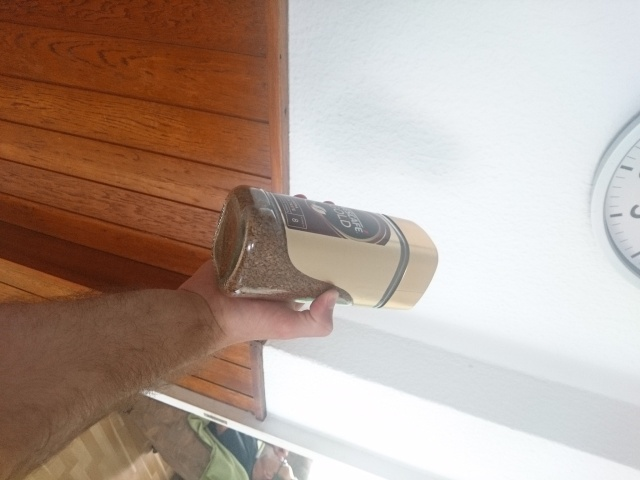Nescafe Gold 225g: (208, 183, 441, 314)
